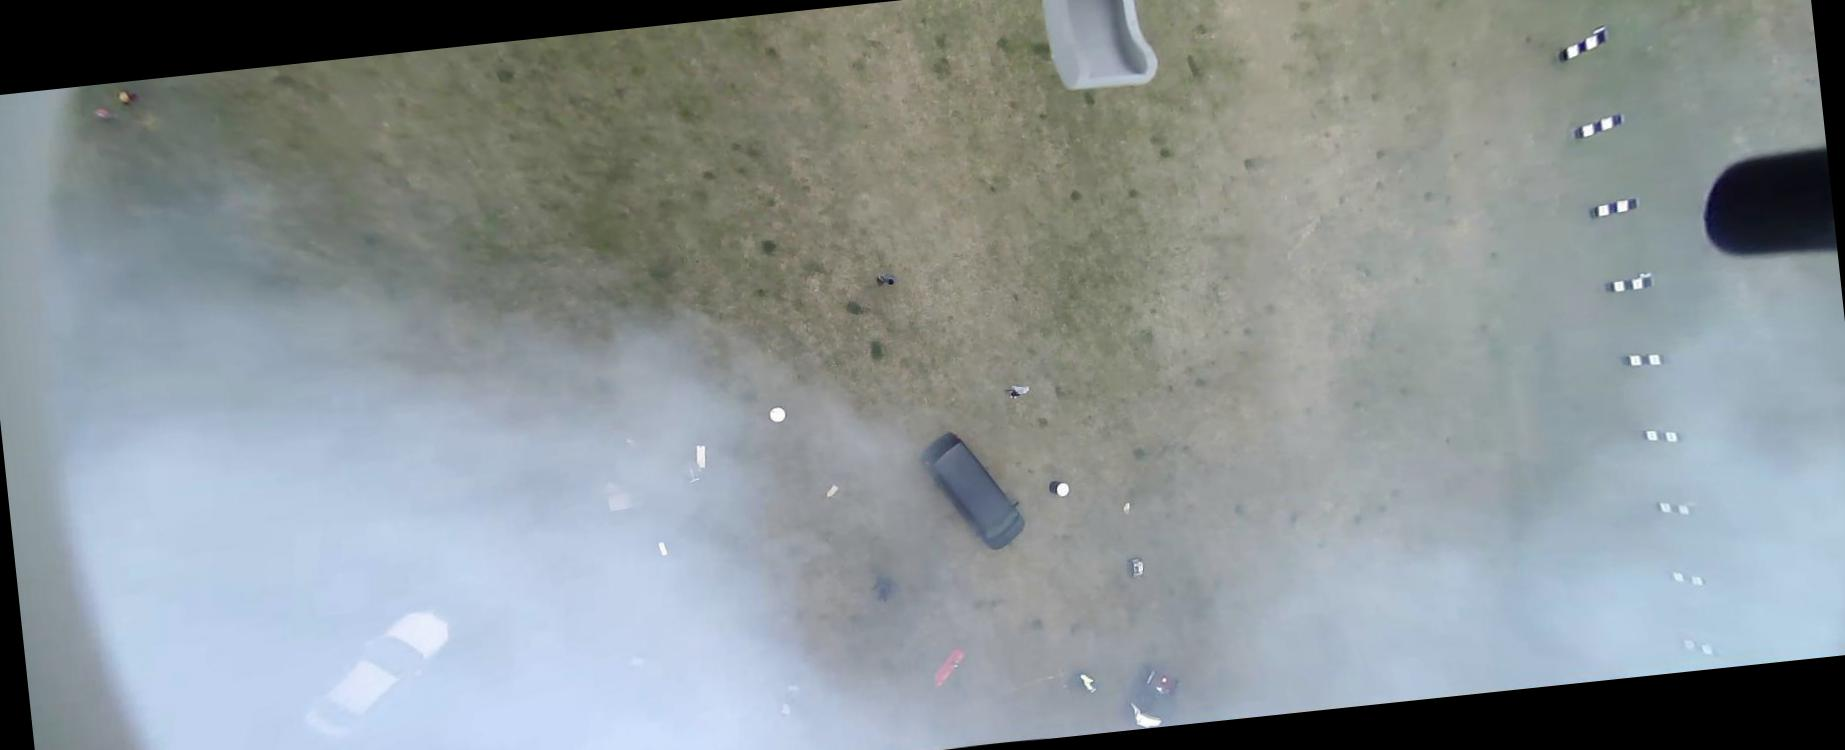vehicle: (292, 606, 458, 744), (918, 424, 1028, 558), (1122, 661, 1184, 729)
